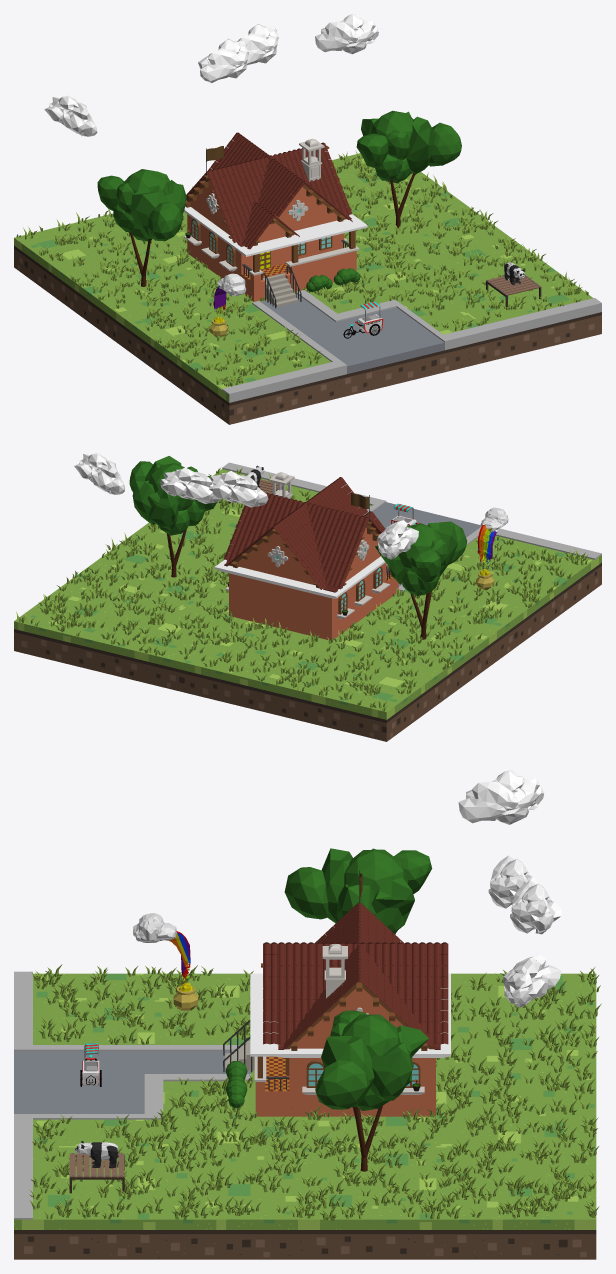
The picture shows the model from 3 angles, top to bottom: view 1: azimuth 30°, elevation 25°; view 2: azimuth 150°, elevation 25°; view 3: azimuth 270°, elevation 25°; orthographic projection. The views are drawn at different scales.
Visible parts, largest first — view 1: Cube.006, Cube.1141, Circle.012_Grass_0.192, Cube.007, tree, tree.001, OBJRANDOM_RAINBOW, Cube.009, VEHICLES_SNOWBAL_BIKE; view 2: Cube.006, Cube.1141, Circle.012_Grass_0.192, Cube.007, tree.001, tree, OBJRANDOM_RAINBOW; view 3: Cube.006, Circle.012_Grass_0.192, Cube.1141, tree, Cube.007, tree.001, OBJRANDOM_RAINBOW, Cube.009, ANIMAL_PANDA, VEHICLES_SNOWBAL_BIKE.
Part boxes in pixels (bbox=[...]): Cube.006: bbox=[14, 153, 601, 424]; Cube.1141: bbox=[184, 132, 367, 308]; Circle.012_Grass_0.192: bbox=[16, 150, 588, 386]; Cube.007: bbox=[44, 14, 378, 136]; tree: bbox=[356, 110, 461, 228]; tree.001: bbox=[97, 169, 186, 286]; OBJRANDOM_RAINBOW: bbox=[209, 273, 246, 337]; Cube.009: bbox=[486, 275, 541, 306]; VEHICLES_SNOWBAL_BIKE: bbox=[343, 301, 383, 338]; Cube.006: bbox=[14, 462, 601, 741]; Cube.1141: bbox=[214, 472, 398, 640]; Circle.012_Grass_0.192: bbox=[16, 468, 588, 711]; Cube.007: bbox=[74, 453, 418, 559]; tree.001: bbox=[375, 521, 467, 639]; tree: bbox=[129, 456, 216, 577]; OBJRANDOM_RAINBOW: bbox=[475, 507, 508, 590]; Cube.006: bbox=[14, 971, 596, 1259]; Circle.012_Grass_0.192: bbox=[29, 964, 601, 1220]; Cube.1141: bbox=[223, 870, 450, 1116]; tree: bbox=[315, 1010, 428, 1171]; Cube.007: bbox=[458, 770, 561, 1007]; tree.001: bbox=[284, 848, 432, 934]; OBJRANDOM_RAINBOW: bbox=[133, 913, 198, 1010]; Cube.009: bbox=[69, 1153, 124, 1193]; ANIMAL_PANDA: bbox=[75, 1141, 118, 1168]; VEHICLES_SNOWBAL_BIKE: bbox=[80, 1043, 102, 1086].
Bounding box in the file's own units: 4071 × 2192 × 4040.
43 materials, 3 textured.
